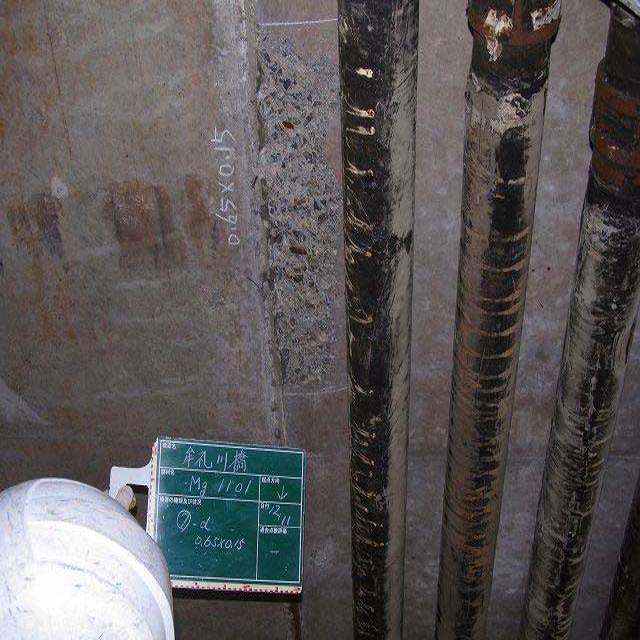spalling: (226, 46, 364, 417)
